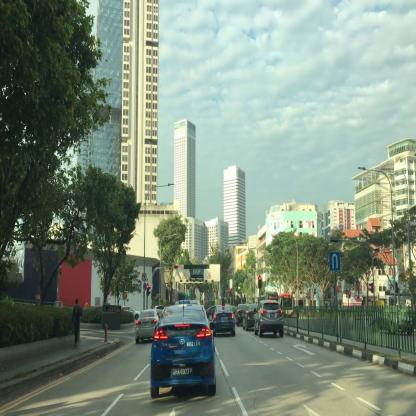red_traffic_light: (258, 276, 261, 288), (146, 284, 149, 296), (174, 265, 179, 268)
